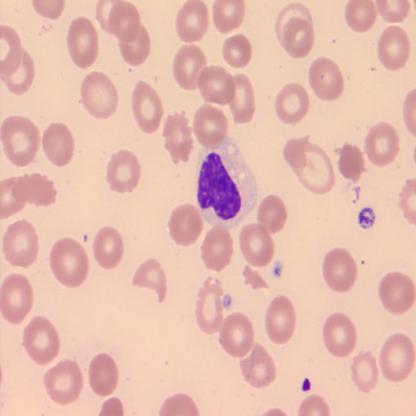Metamyelocyte: (193, 137, 259, 233)
